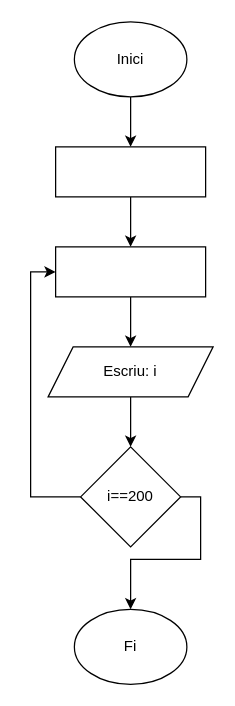
Image size: 235x706. Some labels were removed from this diagram. Here are the shapes that lost their labels. From the top down, the centre of each, then its label:
point 130,171: i=0
point 130,271: i=i+2
